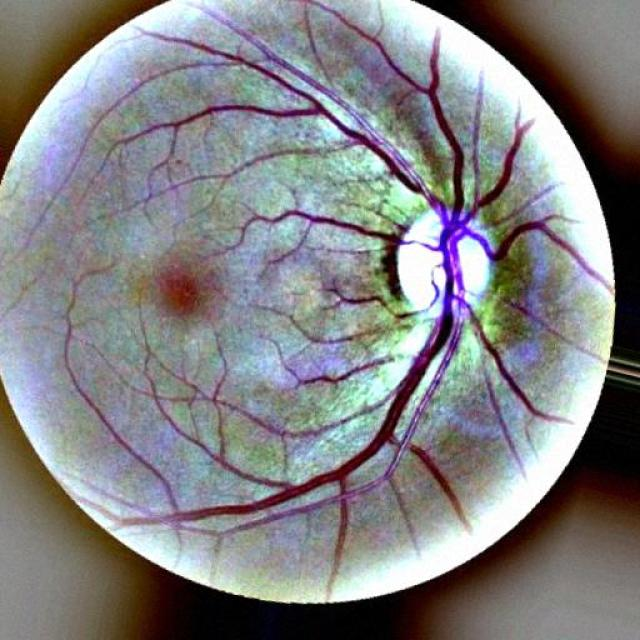Nerves: (64, 11, 612, 584), (279, 350, 394, 386), (322, 284, 389, 309)
Optic Disk: (398, 196, 494, 319)
